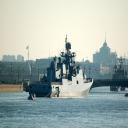Fragata: (29, 33, 94, 100)
